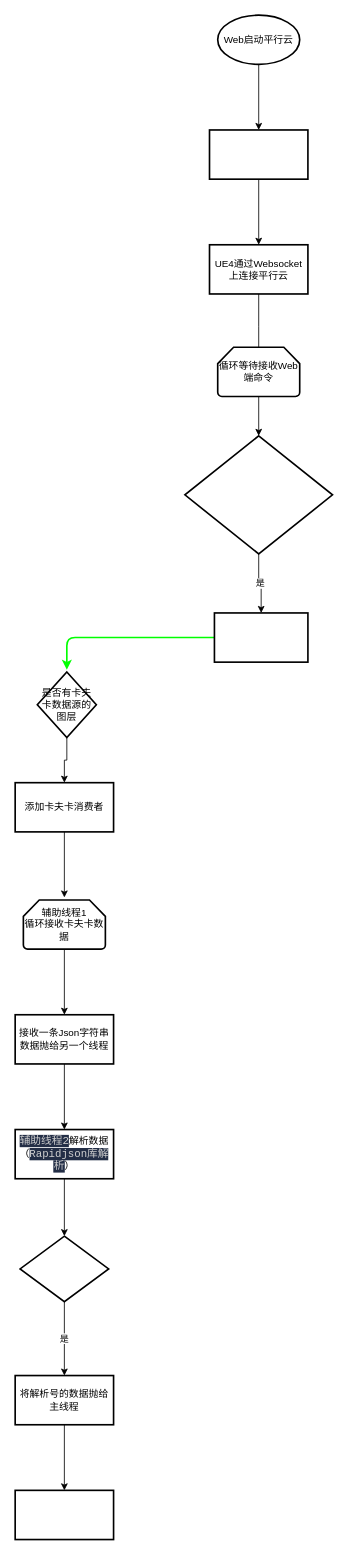
The diagram is 347 pixels wide and 1554 high, and some of its shapes have lost their labels. The shapes that lost their labels are listed below. From the top down, each one's box as (x1, y1, x2, y2) in pixels, then its label:
(208, 129, 308, 180): 平行云启动UE4
(184, 435, 333, 554): Web端命令是否为 initializeConfig addLayer
(213, 612, 308, 663): 解析配置
(19, 1235, 109, 1302): 判断初始化配置否有是否有这个图层
(14, 1489, 114, 1540): 主线程更新元素状态（包含生成、更新位置、删除状态）
